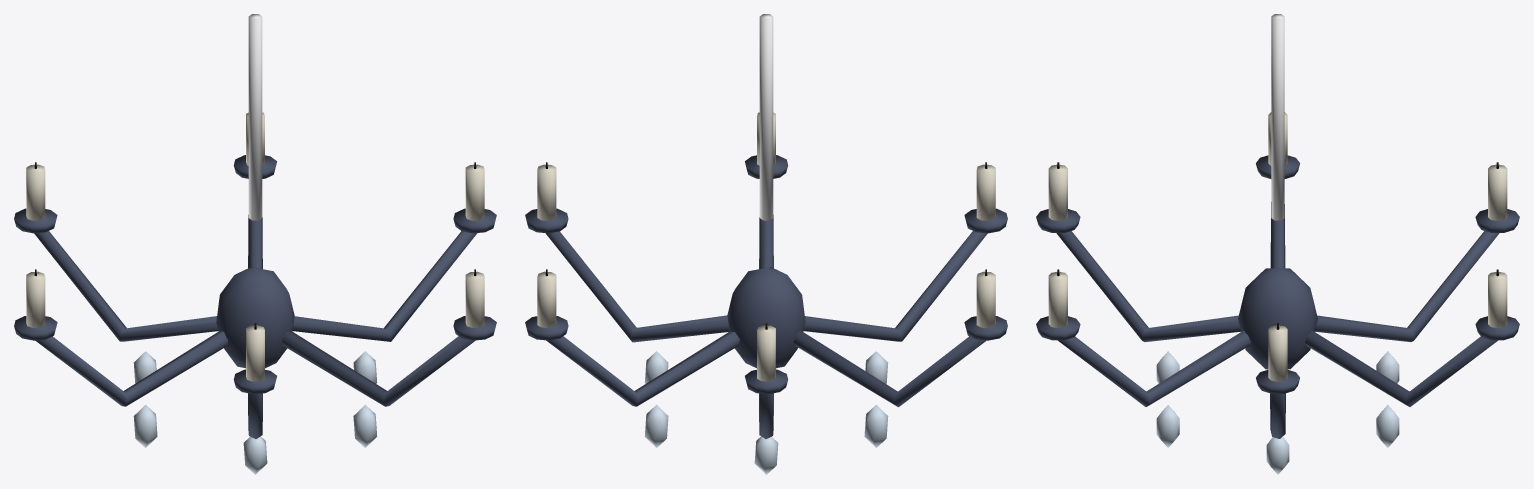
The model's file is granite_chandelier_v0.glb.
3 renders of one model, left to right at view 1: azimuth 30°, elevation 25°; view 2: azimuth 150°, elevation 25°; view 3: azimuth 270°, elevation 25°, orthographic.
Parts seen in each view (by area): view 1: granite_chandelier_v0; view 2: granite_chandelier_v0; view 3: granite_chandelier_v0.
Boxes of the visible parts, x1,y1,x2,y2 form: granite_chandelier_v0: (14,14,496,474); granite_chandelier_v0: (525,14,1007,474); granite_chandelier_v0: (1036,14,1519,474).
Bounding box in the file's own units: 1.24 × 1 × 1.09.
